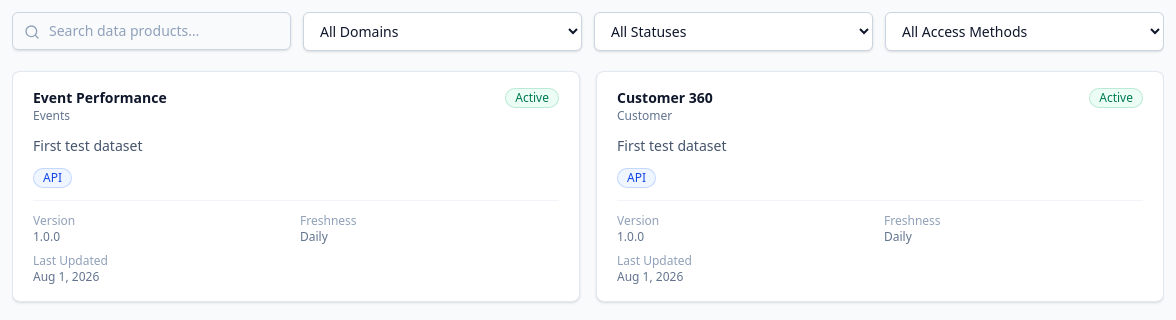
Test: DatasetExplorer › shows an empty state when no data product matches the filters
Type "no-such-dataset" into the field with placeholder "Search data products…".
click(152, 31); type("no-such-dataset")  # box [12,12,291,50]
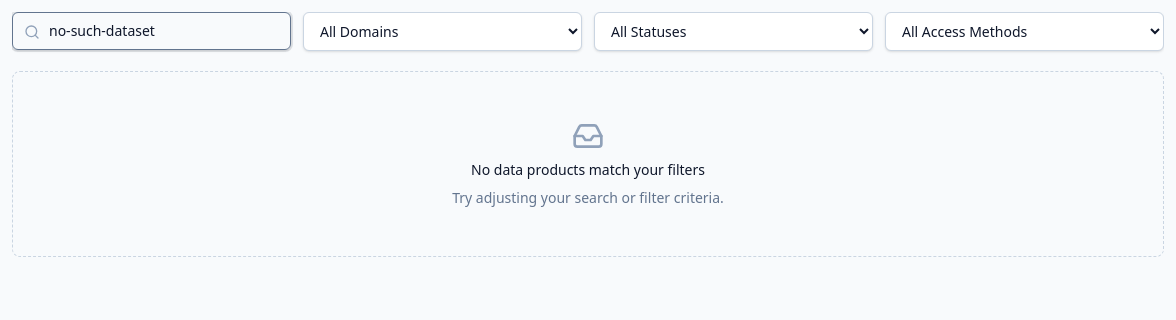
expect the text "No data products match your filters" is shown: met, box [471,160,705,180]
